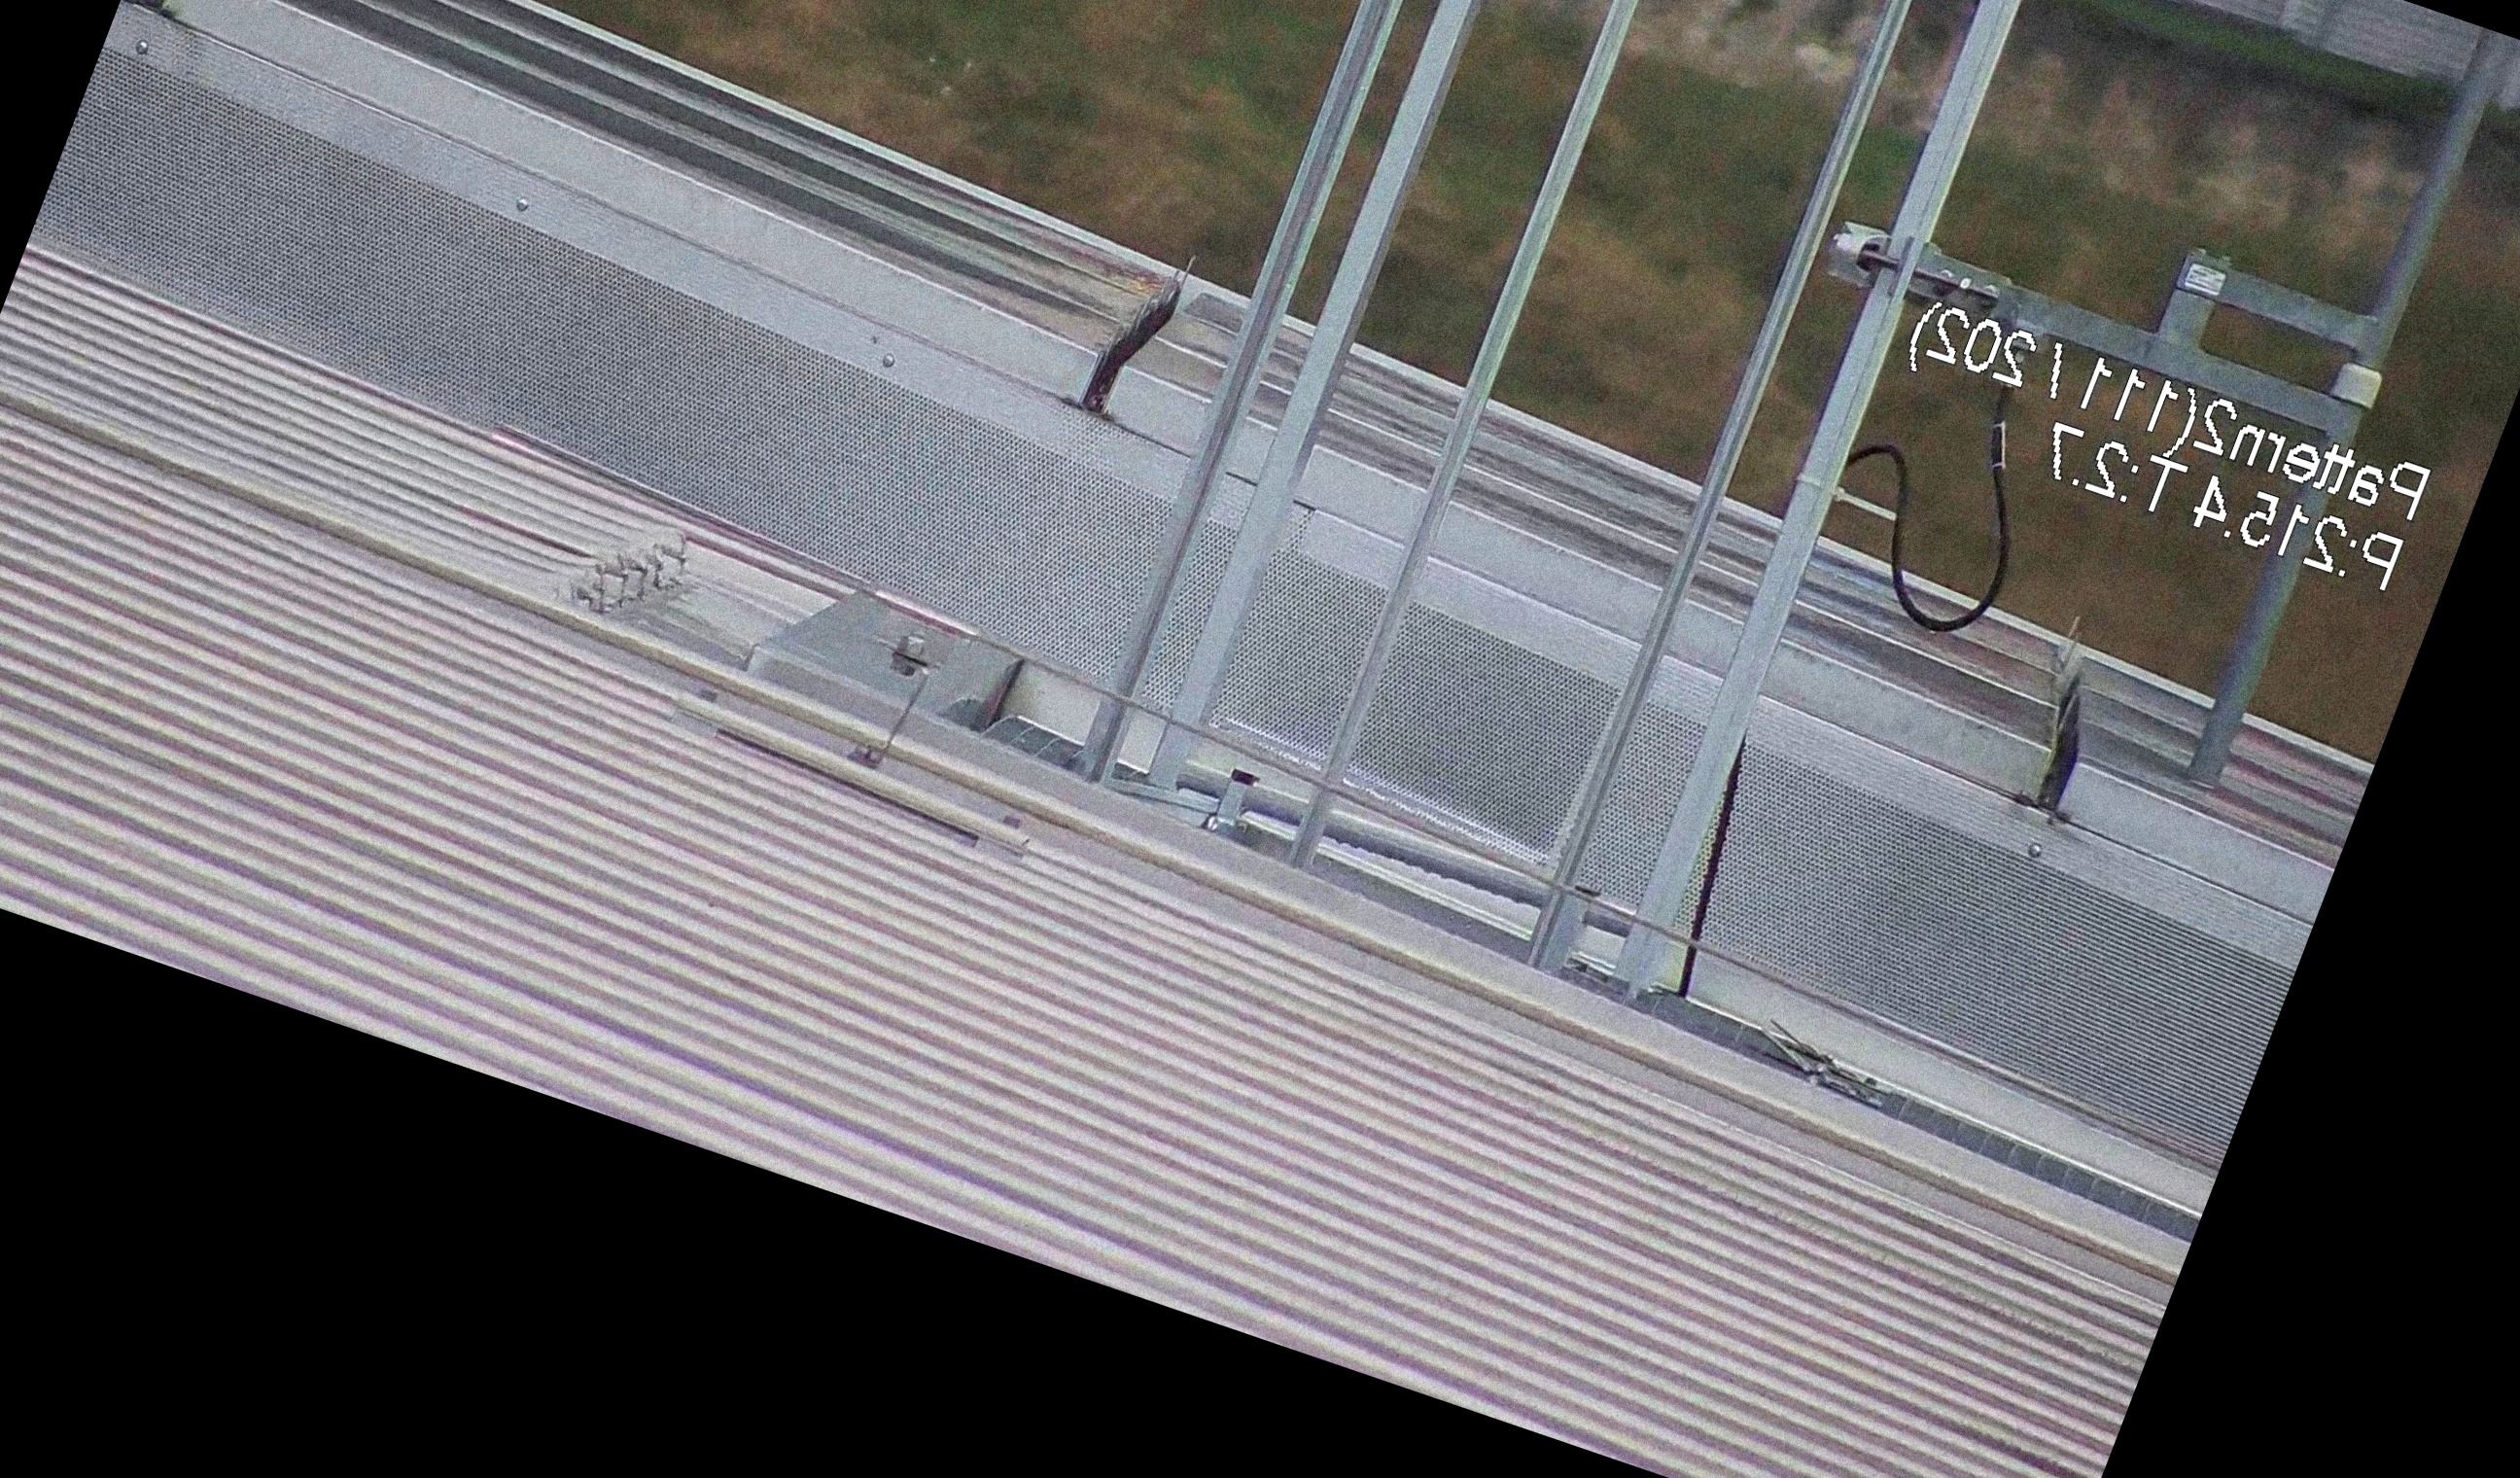Other: (1052, 238, 1212, 445)
